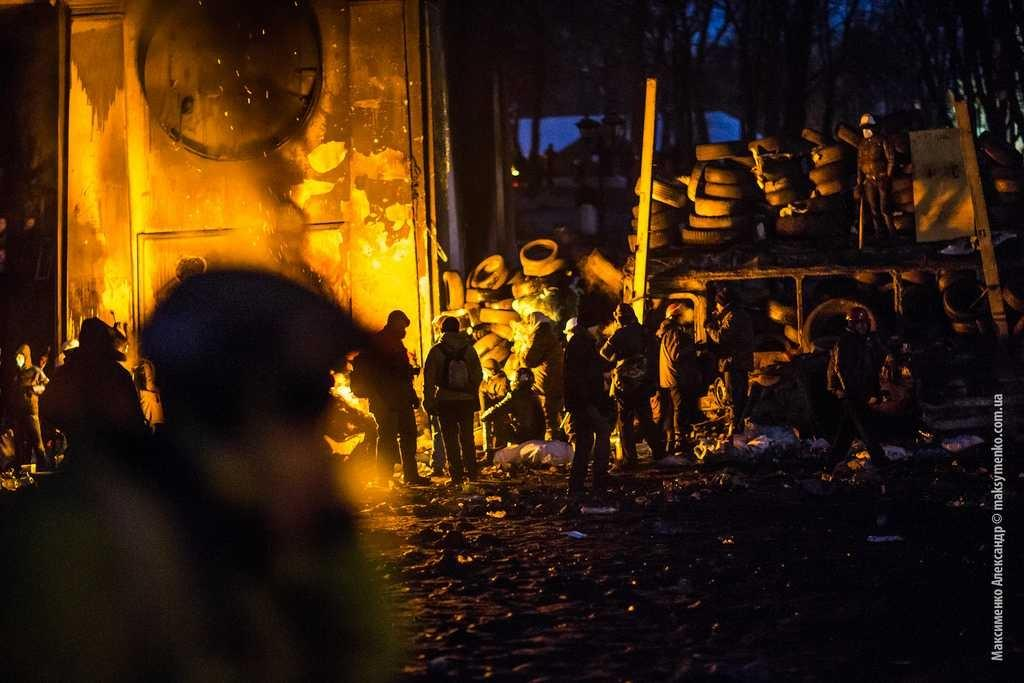fire: (337, 377, 372, 430)
